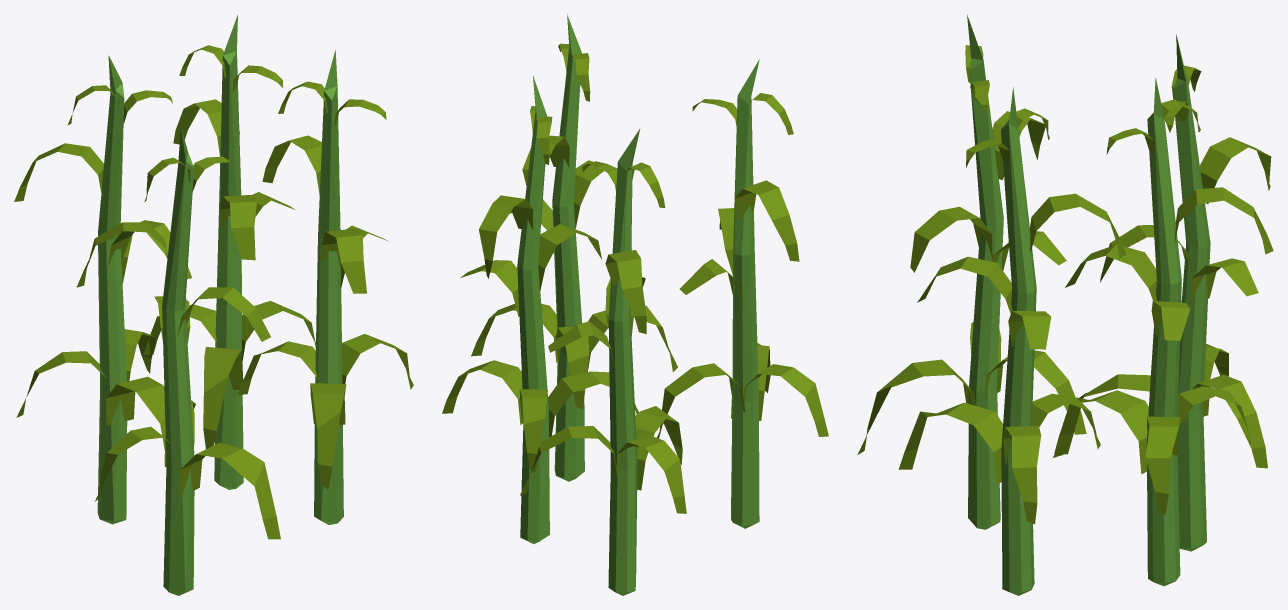
File: childcorn2.fbx
3 renders of one model, left to right at view 1: azimuth 30°, elevation 25°; view 2: azimuth 150°, elevation 25°; view 3: azimuth 270°, elevation 25°, orthographic. The views are drawn at different scales.
Parts seen in each view (by area): view 1: chirldcorn2; view 2: chirldcorn2; view 3: chirldcorn2.
Boxes of the visible parts, x1,y1,x2,y2 form: chirldcorn2: (14, 15, 413, 595); chirldcorn2: (442, 14, 828, 595); chirldcorn2: (857, 14, 1273, 595).
Bounding box in the file's own units: 301 × 420 × 294.
